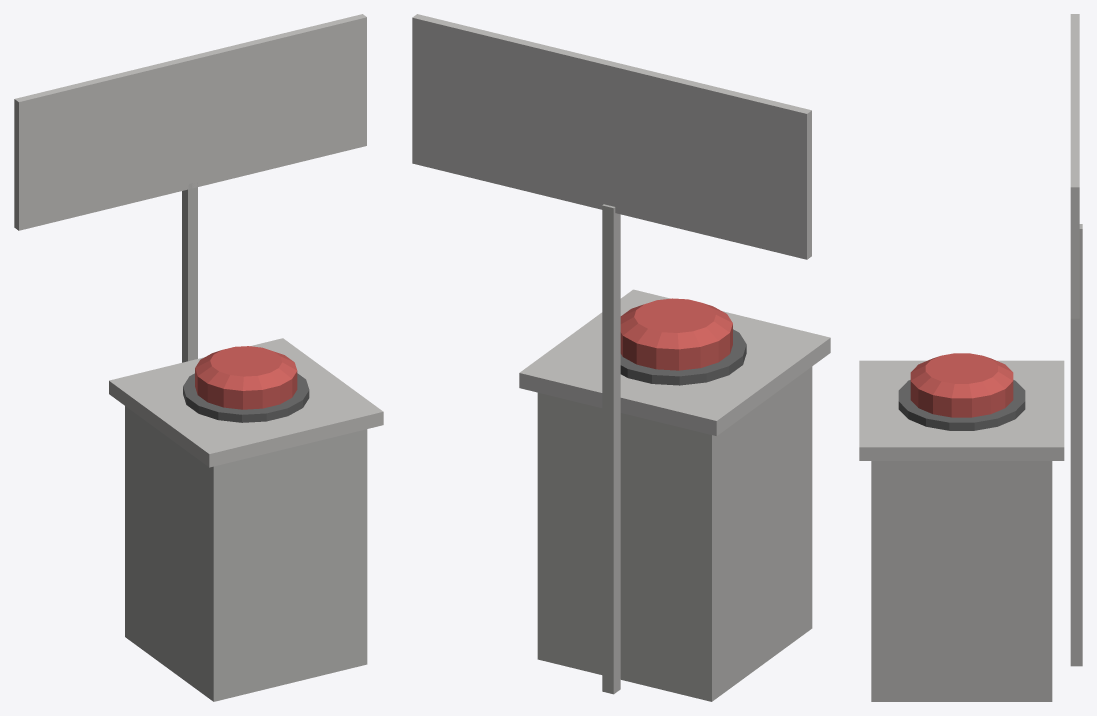
File: buy-house.glb
The picture shows the model from 3 angles, left to right: view 1: azimuth 30°, elevation 25°; view 2: azimuth 150°, elevation 25°; view 3: azimuth 270°, elevation 25°; orthographic projection. The views are drawn at different scales.
Visible parts, largest first — view 1: buy-house; view 2: buy-house; view 3: buy-house.
Boxes of the visible parts, box(x1,y1,x2,y2) form: buy-house: box(14, 14, 383, 701); buy-house: box(412, 14, 830, 701); buy-house: box(859, 14, 1082, 701).
Size of the model in its own units: 1.36 by 2.06 by 0.74.
